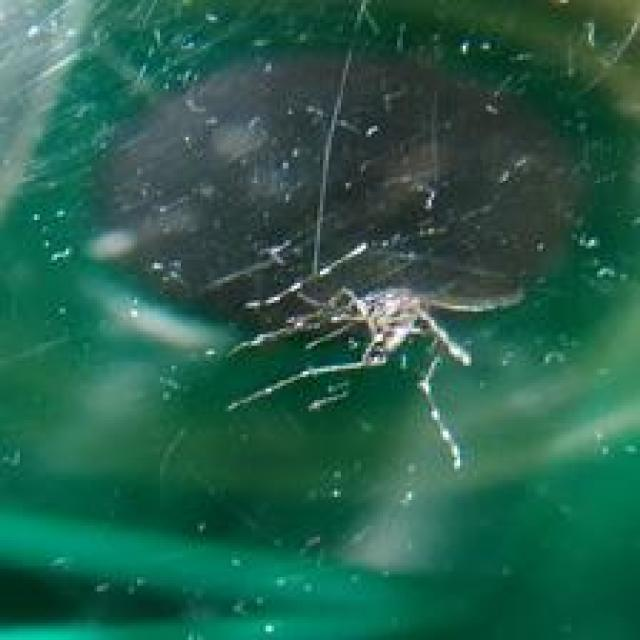Aedes albopictus: (222, 238, 527, 473)
